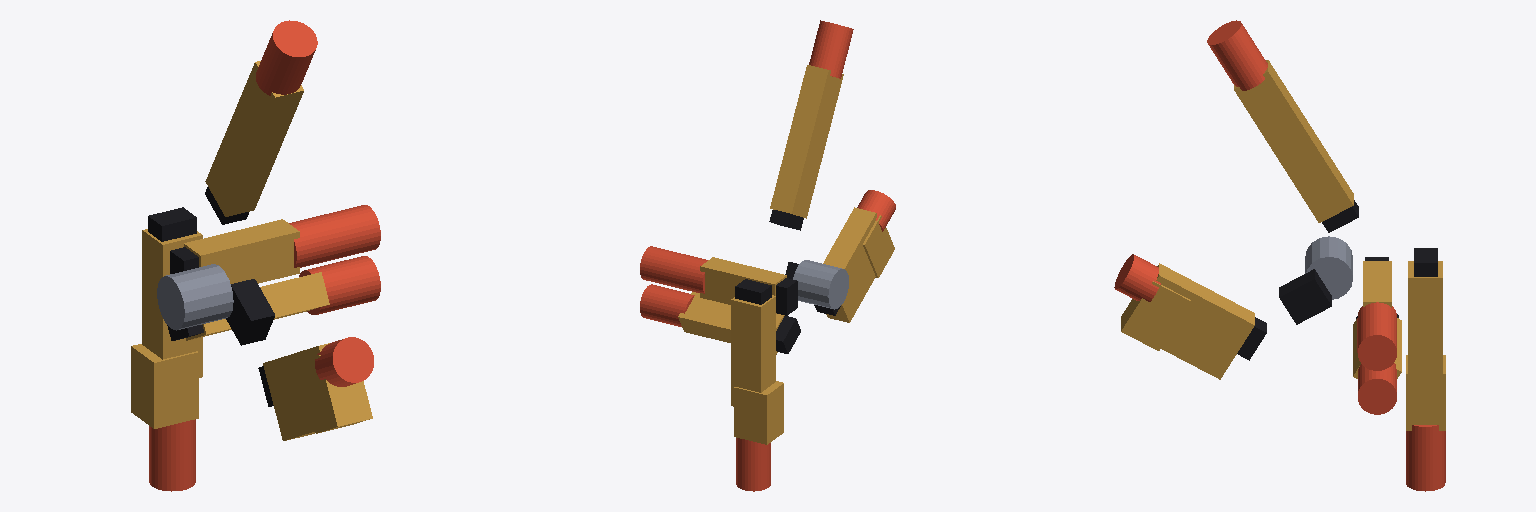
The robot description file, URDF, robot "seed_f5_cut_j1":
<robot name="seed_f5_cut_j1">
  <link name="palm">
    <visual name="palm_palm1">
      <origin xyz="0 0 0" rpy="0 0 0" />
      <geometry>
        <mesh filename="palm_palm1.obj" />
      </geometry>
      <material name="palm_palm1_mat">
        <color rgba="0.55 0.57 0.62 1" />
      </material>
    </visual>
    <collision>
      <origin xyz="0 0 0" rpy="0 0 0" />
      <geometry>
        <mesh filename="palm_palm1.obj" />
      </geometry>
    </collision>
    <visual name="palm_mount2">
      <origin xyz="0 0 0" rpy="0 0 0" />
      <geometry>
        <mesh filename="palm_mount2.obj" />
      </geometry>
      <material name="palm_mount2_mat">
        <color rgba="0.55 0.57 0.62 1" />
      </material>
    </visual>
    <collision>
      <origin xyz="0 0 0" rpy="0 0 0" />
      <geometry>
        <mesh filename="palm_mount2.obj" />
      </geometry>
    </collision>
    <visual name="palm_hinge3">
      <origin xyz="0 -0.0194855716 -0.01125" rpy="1.57079633 -1.04719755 -1.57079633" />
      <geometry>
        <box size="0.029 0.034 0.02" />
      </geometry>
      <material name="palm_hinge3_mat">
        <color rgba="0.15 0.15 0.17 1" />
      </material>
    </visual>
    <collision>
      <origin xyz="0 -0.0194855716 -0.01125" rpy="1.57079633 -1.04719755 -1.57079633" />
      <geometry>
        <box size="0.029 0.034 0.02" />
      </geometry>
    </collision>
    <visual name="palm_motor4">
      <origin xyz="0 0.00375 0.0735048095" rpy="-1.57079633 -0.523598776 1.57079633" />
      <geometry>
        <box size="0.029 0.034 0.02" />
      </geometry>
      <material name="palm_motor4_mat">
        <color rgba="0.15 0.15 0.17 1" />
      </material>
    </visual>
    <collision>
      <origin xyz="0 0.00375 0.0735048095" rpy="-1.57079633 -0.523598776 1.57079633" />
      <geometry>
        <box size="0.029 0.034 0.02" />
      </geometry>
    </collision>
    <visual name="palm_motor5">
      <origin xyz="-0.007 0.04 -0.04" rpy="3.14159265 -0.523598776 -1.57079633" />
      <geometry>
        <box size="0.029 0.034 0.02" />
      </geometry>
      <material name="palm_motor5_mat">
        <color rgba="0.15 0.15 0.17 1" />
      </material>
    </visual>
    <collision>
      <origin xyz="-0.007 0.04 -0.04" rpy="3.14159265 -0.523598776 -1.57079633" />
      <geometry>
        <box size="0.029 0.034 0.02" />
      </geometry>
    </collision>
    <visual name="palm_motor6">
      <origin xyz="-0.007 0.04 4.5924255e-19" rpy="1.57079633 -1.57079633 0" />
      <geometry>
        <box size="0.029 0.034 0.02" />
      </geometry>
      <material name="palm_motor6_mat">
        <color rgba="0.15 0.15 0.17 1" />
      </material>
    </visual>
    <collision>
      <origin xyz="-0.007 0.04 4.5924255e-19" rpy="1.57079633 -1.57079633 0" />
      <geometry>
        <box size="0.029 0.034 0.02" />
      </geometry>
    </collision>
    <visual name="palm_motor7">
      <origin xyz="-0.0045 0.08 0.0075" rpy="1.57079633 7.49879891e-33 -6.123234e-17" />
      <geometry>
        <box size="0.029 0.034 0.02" />
      </geometry>
      <material name="palm_motor7_mat">
        <color rgba="0.15 0.15 0.17 1" />
      </material>
    </visual>
    <collision>
      <origin xyz="-0.0045 0.08 0.0075" rpy="1.57079633 7.49879891e-33 -6.123234e-17" />
      <geometry>
        <box size="0.029 0.034 0.02" />
      </geometry>
    </collision>
    <inertial>
      <origin xyz="5.1369679e-19 0.0229037647 0.01489015" rpy="-1.57079633 -1.02778158 -1.57079633" />
      <mass value="0.601160259" />
      <inertia ixx="0.000554013" ixy="0" ixz="0" iyy="0.000962250018" iyz="0" izz="0.00145855163" />
    </inertial>
  </link>
  <link name="palm0">
    <visual name="palm0_palm1">
      <origin xyz="0 0 0" rpy="0 0 0" />
      <geometry>
        <mesh filename="palm0_palm1.obj" />
      </geometry>
      <material name="palm0_palm1_mat">
        <color rgba="0.55 0.57 0.62 1" />
      </material>
    </visual>
    <collision>
      <origin xyz="0 0 0" rpy="0 0 0" />
      <geometry>
        <mesh filename="palm0_palm1.obj" />
      </geometry>
    </collision>
    <visual name="palm0_motor2">
      <origin xyz="0 -0.0475240474 -0.02875" rpy="-1.57079633 -1.04719755 1.57079633" />
      <geometry>
        <box size="0.029 0.034 0.02" />
      </geometry>
      <material name="palm0_motor2_mat">
        <color rgba="0.15 0.15 0.17 1" />
      </material>
    </visual>
    <collision>
      <origin xyz="0 -0.0475240474 -0.02875" rpy="-1.57079633 -1.04719755 1.57079633" />
      <geometry>
        <box size="0.029 0.034 0.02" />
      </geometry>
    </collision>
    <inertial>
      <origin xyz="0 -0.0266208897 -0.0181619616" rpy="1.57079633 1.0431682 1.57079633" />
      <mass value="0.18903052" />
      <inertia ixx="7.49367276e-05" ixy="0" ixz="0" iyy="9.85309226e-05" iyz="0" izz="0.00015532072" />
    </inertial>
  </link>
  <link name="f0_link0">
    <visual name="f0_link0_link1">
      <origin xyz="0.03375 0 -0.01225" rpy="0 7.03853194e-17 0" />
      <geometry>
        <box size="0.0915 0.024 0.0575" />
      </geometry>
      <material name="f0_link0_link1_mat">
        <color rgba="0.80 0.62 0.30 1" />
      </material>
    </visual>
    <collision>
      <origin xyz="0.03375 0 -0.01225" rpy="0 7.03853194e-17 0" />
      <geometry>
        <box size="0.0915 0.024 0.0575" />
      </geometry>
    </collision>
    <inertial>
      <origin xyz="0.03375 0 -0.01225" rpy="0 0 0" />
      <mass value="0.2209725" />
      <inertia ixx="7.14892073e-05" ixy="0" ixz="0" iyy="0.000215052278" iyz="0" izz="0.000164776431" />
    </inertial>
  </link>
  <link name="f0_link1">
    <visual name="f0_link1_link1">
      <origin xyz="-0.00625 0 -0.0165" rpy="0 7.03853194e-17 0" />
      <geometry>
        <box size="0.0365 0.029 0.053" />
      </geometry>
      <material name="f0_link1_link1_mat">
        <color rgba="0.80 0.62 0.30 1" />
      </material>
    </visual>
    <collision>
      <origin xyz="-0.00625 0 -0.0165" rpy="0 7.03853194e-17 0" />
      <geometry>
        <box size="0.0365 0.029 0.053" />
      </geometry>
    </collision>
    <inertial>
      <origin xyz="-0.00625 0 -0.0165" rpy="0 0 0" />
      <mass value="0.098175875" />
      <inertia ixx="2.98618286e-05" ixy="0" ixz="0" iyy="3.38809035e-05" iyz="0" izz="1.778006e-05" />
    </inertial>
  </link>
  <link name="f0_link2">
    <visual name="f0_link2_link1">
      <origin xyz="0.019 0 -6.9388939e-18" rpy="-1.57079633 -0 -1.57079633" />
      <geometry>
        <cylinder radius="0.0165" length="0.029" />
      </geometry>
      <material name="f0_link2_link1_mat">
        <color rgba="0.85 0.35 0.25 1" />
      </material>
    </visual>
    <collision>
      <origin xyz="0.019 0 -6.9388939e-18" rpy="-1.57079633 -0 -1.57079633" />
      <geometry>
        <cylinder radius="0.0165" length="0.029" />
      </geometry>
    </collision>
    <inertial>
      <origin xyz="0.019 0 0" rpy="0 0 0" />
      <mass value="0.0763354" />
      <inertia ixx="9.49466441e-06" ixy="0" ixz="0" iyy="2.24143997e-05" iyz="0" izz="2.24143997e-05" />
    </inertial>
  </link>
  <link name="f1_link0">
    <visual name="f1_link0_link1">
      <origin xyz="0.02375 0 0" rpy="0 3.98552134e-18 0" />
      <geometry>
        <box size="0.0715 0.024 0.033" />
      </geometry>
      <material name="f1_link0_link1_mat">
        <color rgba="0.80 0.62 0.30 1" />
      </material>
    </visual>
    <collision>
      <origin xyz="0.02375 0 0" rpy="0 3.98552134e-18 0" />
      <geometry>
        <box size="0.0715 0.024 0.033" />
      </geometry>
    </collision>
    <inertial>
      <origin xyz="0.02375 0 0" rpy="0 0 0" />
      <mass value="0.099099" />
      <inertia ixx="1.37499863e-05" ixy="0" ixz="0" iyy="5.12114728e-05" iyz="0" izz="4.69749906e-05" />
    </inertial>
  </link>
  <link name="f1_link1">
    <visual name="f1_link1_link1">
      <origin xyz="0.03375 0 -6.9388939e-18" rpy="0 3.98552134e-18 0" />
      <geometry>
        <box size="0.0915 0.024 0.033" />
      </geometry>
      <material name="f1_link1_link1_mat">
        <color rgba="0.80 0.62 0.30 1" />
      </material>
    </visual>
    <collision>
      <origin xyz="0.03375 0 -6.9388939e-18" rpy="0 3.98552134e-18 0" />
      <geometry>
        <box size="0.0915 0.024 0.033" />
      </geometry>
    </collision>
    <inertial>
      <origin xyz="0.03375 0 0" rpy="0 0 0" />
      <mass value="0.126819" />
      <inertia ixx="1.75961363e-05" ixy="0" ixz="0" iyy="9.99888553e-05" iyz="0" izz="9.45673431e-05" />
    </inertial>
  </link>
  <link name="f1_link2">
    <visual name="f1_link2_link1">
      <origin xyz="0.029 0 -1.04083409e-17" rpy="-1.57079633 -0 -1.57079633" />
      <geometry>
        <cylinder radius="0.0165" length="0.049" />
      </geometry>
      <material name="f1_link2_link1_mat">
        <color rgba="0.85 0.35 0.25 1" />
      </material>
    </visual>
    <collision>
      <origin xyz="0.029 0 -1.04083409e-17" rpy="-1.57079633 -0 -1.57079633" />
      <geometry>
        <cylinder radius="0.0165" length="0.049" />
      </geometry>
    </collision>
    <inertial>
      <origin xyz="0.029 0 0" rpy="0 0 0" />
      <mass value="0.106270851" />
      <inertia ixx="1.35696277e-05" ixy="0" ixz="0" iyy="5.30015704e-05" iyz="0" izz="5.30015704e-05" />
    </inertial>
  </link>
  <link name="f2_link0">
    <visual name="f2_link0_link1">
      <origin xyz="0.03875 0 0" rpy="2.57628149e-17 5.00633443e-35 2.01712861e-33" />
      <geometry>
        <box size="0.1015 0.033 0.024" />
      </geometry>
      <material name="f2_link0_link1_mat">
        <color rgba="0.80 0.62 0.30 1" />
      </material>
    </visual>
    <collision>
      <origin xyz="0.03875 0 0" rpy="2.57628149e-17 5.00633443e-35 2.01712861e-33" />
      <geometry>
        <box size="0.1015 0.033 0.024" />
      </geometry>
    </collision>
    <inertial>
      <origin xyz="0.03875 0 0" rpy="0 0 0" />
      <mass value="0.140679" />
      <inertia ixx="1.95192113e-05" ixy="0" ixz="0" iyy="0.000127528444" iyz="0" izz="0.000133542472" />
    </inertial>
  </link>
  <link name="f2_link1">
    <visual name="f2_link1_link1">
      <origin xyz="0.029 -6.9388939e-18 0" rpy="-1.57079633 -0 -1.57079633" />
      <geometry>
        <cylinder radius="0.0165" length="0.049" />
      </geometry>
      <material name="f2_link1_link1_mat">
        <color rgba="0.85 0.35 0.25 1" />
      </material>
    </visual>
    <collision>
      <origin xyz="0.029 -6.9388939e-18 0" rpy="-1.57079633 -0 -1.57079633" />
      <geometry>
        <cylinder radius="0.0165" length="0.049" />
      </geometry>
    </collision>
    <inertial>
      <origin xyz="0.029 0 0" rpy="0 0 0" />
      <mass value="0.106270851" />
      <inertia ixx="1.35696277e-05" ixy="0" ixz="0" iyy="5.30015704e-05" iyz="0" izz="5.30015704e-05" />
    </inertial>
  </link>
  <link name="f3_link0">
    <visual name="f3_link0_link1">
      <origin xyz="0.02875 0 0" rpy="0 -3.00807789e-49 0" />
      <geometry>
        <box size="0.0815 0.033 0.024" />
      </geometry>
      <material name="f3_link0_link1_mat">
        <color rgba="0.80 0.62 0.30 1" />
      </material>
    </visual>
    <collision>
      <origin xyz="0.02875 0 0" rpy="0 -3.00807789e-49 0" />
      <geometry>
        <box size="0.0815 0.033 0.024" />
      </geometry>
    </collision>
    <inertial>
      <origin xyz="0.02875 0 0" rpy="0 0 0" />
      <mass value="0.112959" />
      <inertia ixx="1.56730613e-05" ixy="0" ixz="0" iyy="6.79471918e-05" iyz="0" izz="7.27761891e-05" />
    </inertial>
  </link>
  <link name="f3_link1">
    <visual name="f3_link1_link1">
      <origin xyz="0.039 0 0" rpy="-1.57079633 -0 -1.57079633" />
      <geometry>
        <cylinder radius="0.0165" length="0.069" />
      </geometry>
      <material name="f3_link1_link1_mat">
        <color rgba="0.85 0.35 0.25 1" />
      </material>
    </visual>
    <collision>
      <origin xyz="0.039 0 0" rpy="-1.57079633 -0 -1.57079633" />
      <geometry>
        <cylinder radius="0.0165" length="0.069" />
      </geometry>
    </collision>
    <inertial>
      <origin xyz="0.039 0 0" rpy="0 0 0" />
      <mass value="0.136206302" />
      <inertia ixx="1.76445909e-05" ixy="0" ixz="0" iyy="0.000104842911" iyz="0" izz="0.000104842911" />
    </inertial>
  </link>
  <link name="f4_link0">
    <visual name="f4_link0_link1">
      <origin xyz="0.04375 0 0" rpy="0 -0 0" />
      <geometry>
        <box size="0.1115 0.033 0.029" />
      </geometry>
      <material name="f4_link0_link1_mat">
        <color rgba="0.80 0.62 0.30 1" />
      </material>
    </visual>
    <collision>
      <origin xyz="0.04375 0 0" rpy="0 -0 0" />
      <geometry>
        <box size="0.1115 0.033 0.029" />
      </geometry>
    </collision>
    <inertial>
      <origin xyz="0.04375 0 0" rpy="0 0 0" />
      <mass value="0.186734625" />
      <inertia ixx="3.00331522e-05" ixy="0" ixz="0" iyy="0.000206547947" iyz="0" izz="0.000210407129" />
    </inertial>
  </link>
  <link name="f4_link1">
    <visual name="f4_link1_link1">
      <origin xyz="0.014 -0.00625 0" rpy="0 -0 0" />
      <geometry>
        <box size="0.052 0.0365 0.033" />
      </geometry>
      <material name="f4_link1_link1_mat">
        <color rgba="0.80 0.62 0.30 1" />
      </material>
    </visual>
    <collision>
      <origin xyz="0.014 -0.00625 0" rpy="0 -0 0" />
      <geometry>
        <box size="0.052 0.0365 0.033" />
      </geometry>
    </collision>
    <inertial>
      <origin xyz="0.014 -0.00625 0" rpy="0 0 0" />
      <mass value="0.1096095" />
      <inertia ixx="2.21160002e-05" ixy="0" ixz="0" iyy="3.46457361e-05" iyz="0" izz="3.6867612e-05" />
    </inertial>
  </link>
  <link name="f4_link2">
    <visual name="f4_link2_link1">
      <origin xyz="0.034 0 0" rpy="-1.57079633 -0 -1.57079633" />
      <geometry>
        <cylinder radius="0.0165" length="0.059" />
      </geometry>
      <material name="f4_link2_link1_mat">
        <color rgba="0.85 0.35 0.25 1" />
      </material>
    </visual>
    <collision>
      <origin xyz="0.034 0 0" rpy="-1.57079633 -0 -1.57079633" />
      <geometry>
        <cylinder radius="0.0165" length="0.059" />
      </geometry>
    </collision>
    <inertial>
      <origin xyz="0.034 0 0" rpy="0 0 0" />
      <mass value="0.121238577" />
      <inertia ixx="1.56071093e-05" ixy="0" ixz="0" iyy="7.58912764e-05" iyz="0" izz="7.58912764e-05" />
    </inertial>
  </link>
  <joint name="palm0_joint" type="revolute">
    <parent link="palm" />
    <child link="palm0" />
    <origin xyz="0 -0.0259807621 -0.015" rpy="0 0 0" />
    <axis xyz="0 -0.5 0.866025404" />
    <limit effort="0.5" lower="-0.523598776" upper="0.523598776" velocity="5" />
    <dynamics damping="0.0775033" friction="0" />
  </joint>
  <joint name="f0_j0" type="revolute">
    <parent link="palm0" />
    <child link="f0_link0" />
    <origin xyz="0 -0.0540192379 -0.025" rpy="-0 -0.523598776 -1.57079633" />
    <axis xyz="0 0 1" />
    <limit effort="0.5" lower="-0.523598776" upper="1.57079633" velocity="5" />
    <dynamics damping="0.0775033" friction="0" />
  </joint>
  <joint name="f0_j1" type="revolute">
    <parent link="f0_link0" />
    <child link="f0_link1" />
    <origin xyz="0.07 0 0" rpy="0 0 0" />
    <axis xyz="0 0 1" />
    <limit effort="0.5" lower="-0.523598776" upper="1.57079633" velocity="5" />
    <dynamics damping="0.0775033" friction="0" />
  </joint>
  <joint name="f0_j2" type="revolute">
    <parent link="f0_link1" />
    <child link="f0_link2" />
    <origin xyz="0 0 0" rpy="0 0 0" />
    <axis xyz="-0 -1 -6.123234e-17" />
    <limit effort="0.5" lower="-0.523598776" upper="0.523598776" velocity="5" />
    <dynamics damping="0.0775033" friction="0" />
  </joint>
  <joint name="f1_j0" type="revolute">
    <parent link="palm" />
    <child link="f1_link0" />
    <origin xyz="0 0 0.08" rpy="-0 -1.04719755 -1.57079633" />
    <axis xyz="0 0 1" />
    <limit effort="0.5" lower="-0.523598776" upper="1.57079633" velocity="5" />
    <dynamics damping="0.0775033" friction="0" />
  </joint>
  <joint name="f1_j1" type="revolute">
    <parent link="f1_link0" />
    <child link="f1_link1" />
    <origin xyz="0.05 0 0" rpy="0 0 0" />
    <axis xyz="0 0 1" />
    <limit effort="0.5" lower="-0.523598776" upper="1.57079633" velocity="5" />
    <dynamics damping="0.0775033" friction="0" />
  </joint>
  <joint name="f1_j2" type="revolute">
    <parent link="f1_link1" />
    <child link="f1_link2" />
    <origin xyz="0.07 0 0" rpy="0 0 0" />
    <axis xyz="0 0 1" />
    <limit effort="0.5" lower="-0.523598776" upper="1.57079633" velocity="5" />
    <dynamics damping="0.0775033" friction="0" />
  </joint>
  <joint name="f2_j0" type="revolute">
    <parent link="palm" />
    <child link="f2_link0" />
    <origin xyz="0.0005 0.04 -0.04" rpy="2.61799388 3.061617e-17 5.30287619e-17" />
    <axis xyz="0 1 6.123234e-17" />
    <limit effort="0.5" lower="-0.523598776" upper="0.523598776" velocity="5" />
    <dynamics damping="0.0775033" friction="0" />
  </joint>
  <joint name="f2_j1" type="revolute">
    <parent link="f2_link0" />
    <child link="f2_link1" />
    <origin xyz="0.08 0 0" rpy="0 0 0" />
    <axis xyz="0 1 6.123234e-17" />
    <limit effort="0.5" lower="-0.523598776" upper="0.523598776" velocity="5" />
    <dynamics damping="0.0775033" friction="0" />
  </joint>
  <joint name="f3_j0" type="revolute">
    <parent link="palm" />
    <child link="f3_link0" />
    <origin xyz="0.0005 0.04 0" rpy="1.57079633 6.123234e-17 7.49879891e-33" />
    <axis xyz="0 1 6.123234e-17" />
    <limit effort="0.5" lower="-0.523598776" upper="0.523598776" velocity="5" />
    <dynamics damping="0.0775033" friction="0" />
  </joint>
  <joint name="f3_j1" type="revolute">
    <parent link="f3_link0" />
    <child link="f3_link1" />
    <origin xyz="0.06 0 0" rpy="0 0 0" />
    <axis xyz="0 1 6.123234e-17" />
    <limit effort="0.5" lower="-0.523598776" upper="0.523598776" velocity="5" />
    <dynamics damping="0.0775033" friction="0" />
  </joint>
  <joint name="f4_j0" type="revolute">
    <parent link="palm" />
    <child link="f4_link0" />
    <origin xyz="-0.0045 0.08 0" rpy="1.57079633 1.57079633 0" />
    <axis xyz="0 1 6.123234e-17" />
    <limit effort="0.5" lower="-0.523598776" upper="0.523598776" velocity="5" />
    <dynamics damping="0.0775033" friction="0" />
  </joint>
  <joint name="f4_j1" type="revolute">
    <parent link="f4_link0" />
    <child link="f4_link1" />
    <origin xyz="0.09 0 0" rpy="0 0 0" />
    <axis xyz="0 0 1" />
    <limit effort="0.5" lower="-0.523598776" upper="1.57079633" velocity="5" />
    <dynamics damping="0.0775033" friction="0" />
  </joint>
  <joint name="f4_j2" type="revolute">
    <parent link="f4_link1" />
    <child link="f4_link2" />
    <origin xyz="0.03 0 0" rpy="0 0 0" />
    <axis xyz="0 0 1" />
    <limit effort="0.5" lower="-0.523598776" upper="1.57079633" velocity="5" />
    <dynamics damping="0.0775033" friction="0" />
  </joint>
</robot>

--- Render facts (derived) ---
The picture shows the robot from 3 angles, left to right: view 1: azimuth 30°, elevation 25°; view 2: azimuth 150°, elevation 25°; view 3: azimuth 270°, elevation 25°; orthographic projection.
Model seed_f5_cut_j1 with 15 links and 14 joints (14 revolute), rooted at palm, posed every joint at zero.
Links seen in each view (by area): view 1: palm, f4_link1, f3_link0, f3_link1, f1_link1, f4_link0, f1_link0, f1_link2, f0_link1, f4_link2, f0_link0, f2_link1 (+2 smaller); view 2: palm, f4_link0, f0_link0, f1_link1, f1_link0, f4_link1, f3_link1, f3_link0, f2_link0, f4_link2, f1_link2, f2_link1 (+2 smaller); view 3: f0_link0, palm, f4_link0, f1_link1, f1_link0, f0_link1, f1_link2, f4_link2, f3_link1, f2_link1, f0_link2, f4_link1 (+3 smaller).
Boxes of the visible links, box(x1,y1,x2,y2) form: palm: box(148, 187, 274, 345); f4_link1: box(131, 344, 198, 428); f3_link0: box(184, 219, 299, 283); f3_link1: box(289, 205, 380, 267); f1_link1: box(223, 61, 303, 173); f4_link0: box(142, 229, 202, 377); f1_link0: box(205, 121, 279, 216); f1_link2: box(256, 20, 317, 95); f0_link1: box(297, 355, 372, 433); f4_link2: box(149, 419, 195, 491); f0_link0: box(263, 343, 329, 440); f2_link1: box(299, 256, 380, 314); palm: box(735, 210, 848, 353); f4_link0: box(731, 295, 775, 406); f0_link0: box(823, 207, 876, 322); f1_link1: box(786, 65, 843, 164); f1_link0: box(770, 136, 824, 218); f4_link1: box(734, 381, 783, 444); f3_link1: box(640, 246, 707, 293); f3_link0: box(700, 257, 786, 313); f2_link0: box(678, 292, 784, 354); f4_link2: box(736, 438, 770, 491); f1_link2: box(809, 20, 853, 78); f2_link1: box(640, 284, 694, 326); f0_link0: box(1156, 263, 1254, 379); palm: box(1279, 200, 1437, 324); f4_link0: box(1408, 261, 1442, 399); f1_link1: box(1234, 60, 1322, 175); f1_link0: box(1289, 126, 1353, 222); f0_link1: box(1121, 281, 1190, 350); f1_link2: box(1207, 20, 1267, 90); f4_link2: box(1406, 425, 1445, 491); f3_link1: box(1357, 302, 1396, 370); f2_link1: box(1358, 363, 1396, 414); f0_link2: box(1114, 254, 1160, 301); f4_link1: box(1406, 355, 1445, 430).
Bounding box of the posed robot: 0.186 × 0.2744 × 0.422 m (x, y, z).
1 mesh visuals loaded from 3 distinct referenced files (1 OBJ); not drawn: 2 (reference not matched to a file when rendering).
